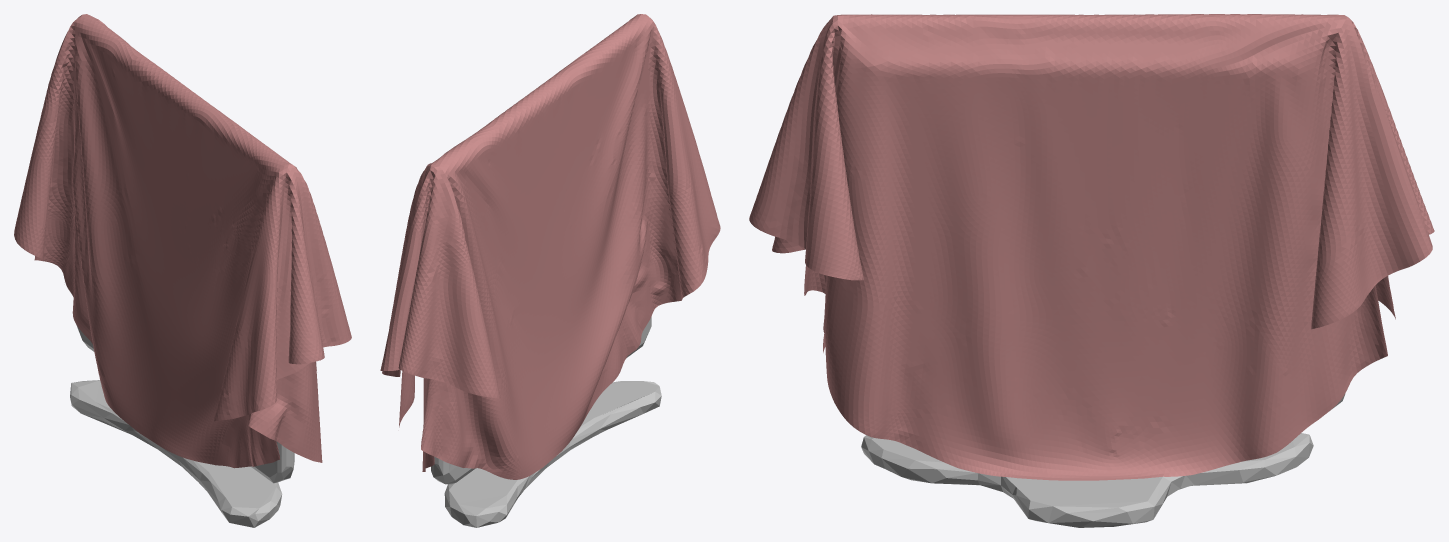
Rendered from level_3.glb.
3 views of the same model, side by side, from view 1: azimuth 30°, elevation 25°; view 2: azimuth 150°, elevation 25°; view 3: azimuth 270°, elevation 25° (orthographic). The views are drawn at different scales.
Visible parts, largest first — view 1: world, object.obj; view 2: world, object.obj; view 3: world, object.obj.
Boxes of the visible parts, box(x1,y1,x2,y2) form: world: box(14, 14, 351, 468); object.obj: box(70, 325, 294, 527); world: box(380, 14, 720, 479); object.obj: box(431, 316, 661, 527); world: box(749, 14, 1434, 480); object.obj: box(861, 393, 1345, 527).
Size of the model in its own units: 0.141 by 0.2907 by 0.3984.
